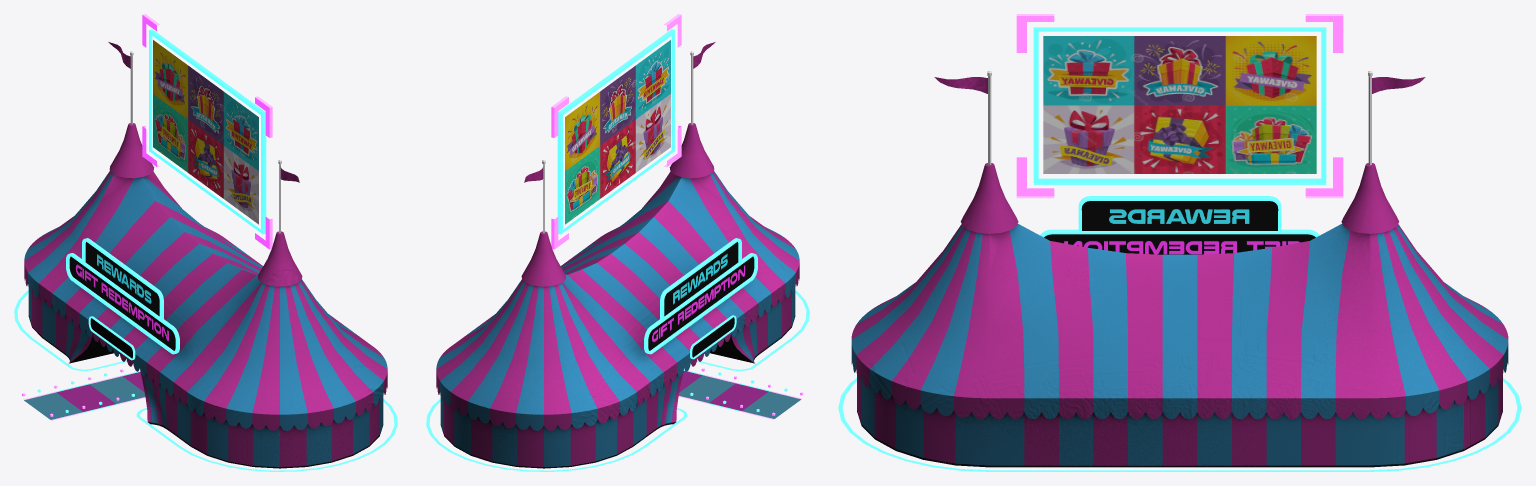
Rendered from tentReward.glb.
3 renders of one model, left to right at view 1: azimuth 30°, elevation 25°; view 2: azimuth 150°, elevation 25°; view 3: azimuth 270°, elevation 25°, orthographic. The views are drawn at different scales.
Parts seen in each view (by area): view 1: tentReward, Plane.053, Plane.016, Plane.025, Plane.014, Plane.054, Plane.015, Plane.039; view 2: tentReward, Plane.053, Plane.016, Plane.025, Plane.014, Plane.054, Plane.015, Plane.039; view 3: tentReward, Plane.053, Plane.016, Plane.054, Plane.014, Plane.015.
Part boxes in pixels (<box>): tentReward: <box>14,42,397,471</box>; Plane.053: <box>149,29,266,234</box>; Plane.016: <box>69,242,175,350</box>; Plane.025: <box>22,369,145,420</box>; Plane.014: <box>66,253,179,354</box>; Plane.054: <box>142,14,272,249</box>; Plane.015: <box>82,238,163,319</box>; Plane.039: <box>90,318,132,358</box>; tentReward: <box>426,42,809,471</box>; Plane.053: <box>557,29,674,234</box>; Plane.016: <box>648,242,754,350</box>; Plane.025: <box>678,368,803,419</box>; Plane.014: <box>644,253,757,354</box>; Plane.054: <box>551,14,681,249</box>; Plane.015: <box>660,238,741,319</box>; Plane.039: <box>692,317,734,357</box>; tentReward: <box>838,71,1521,471</box>; Plane.053: <box>1033,27,1326,184</box>; Plane.016: <box>1044,201,1315,254</box>; Plane.054: <box>1016,14,1343,198</box>; Plane.014: <box>1040,229,1319,237</box>; Plane.015: <box>1078,196,1281,231</box>.
Bounding box in the file's own units: 1.73 × 1.88 × 2.94.
Materials: 11 (4 with a texture image).
